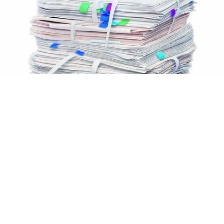book: (23, 0, 201, 78)
